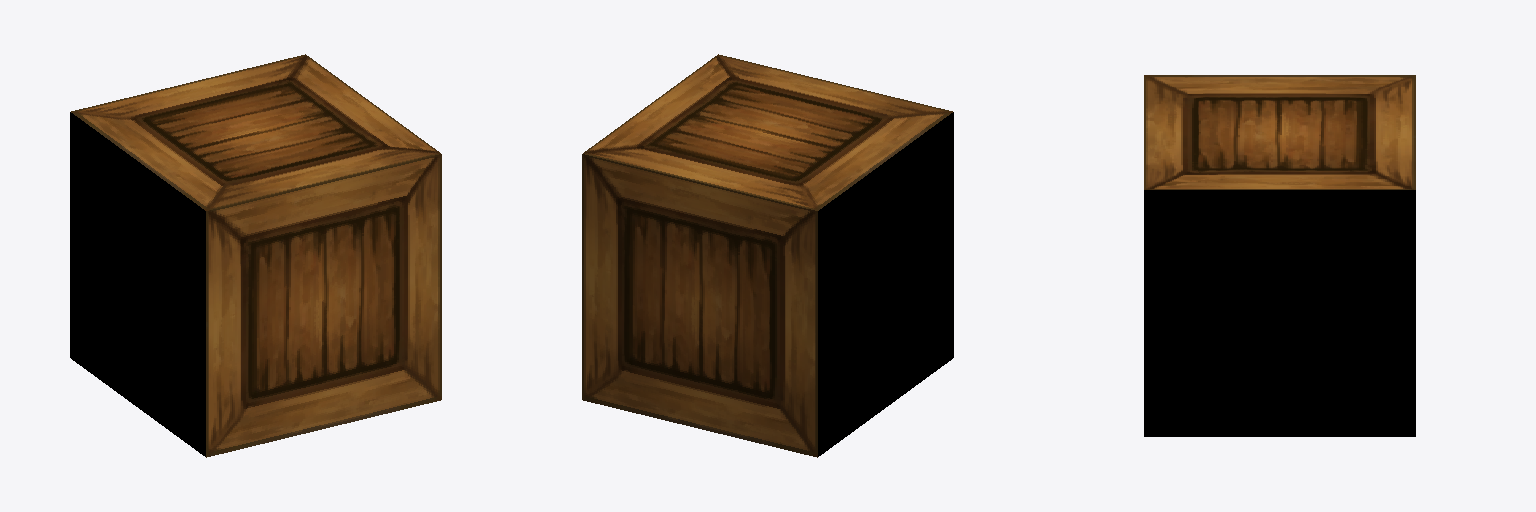
3 renders of one model, left to right at view 1: azimuth 30°, elevation 25°; view 2: azimuth 150°, elevation 25°; view 3: azimuth 270°, elevation 25°, orthographic.
Size of the model in its own units: 12 by 12 by 12.
Materials: 1 (1 with a texture image).